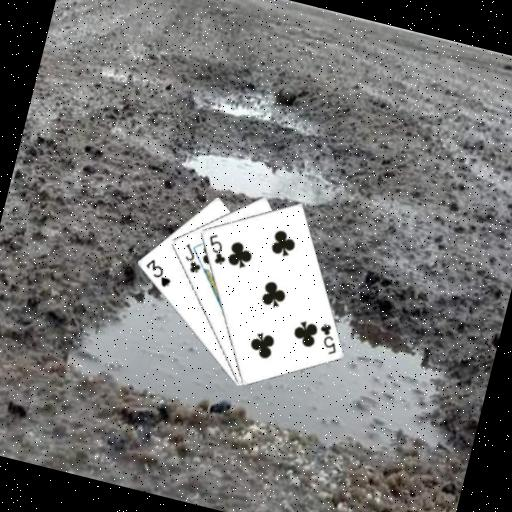3S: (138, 254, 177, 290)
5C: (200, 229, 233, 267), (312, 318, 344, 357)
JC: (176, 240, 207, 277)
